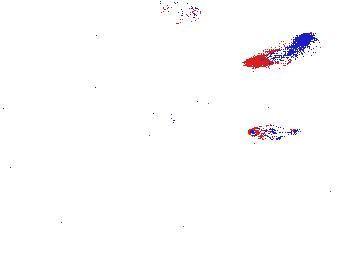X-ray fish: (145, 63, 166, 111), (319, 181, 346, 207)
red belly glassfish: (246, 122, 301, 142)
redtail glassfish: (241, 30, 321, 68), (159, 1, 202, 29)
